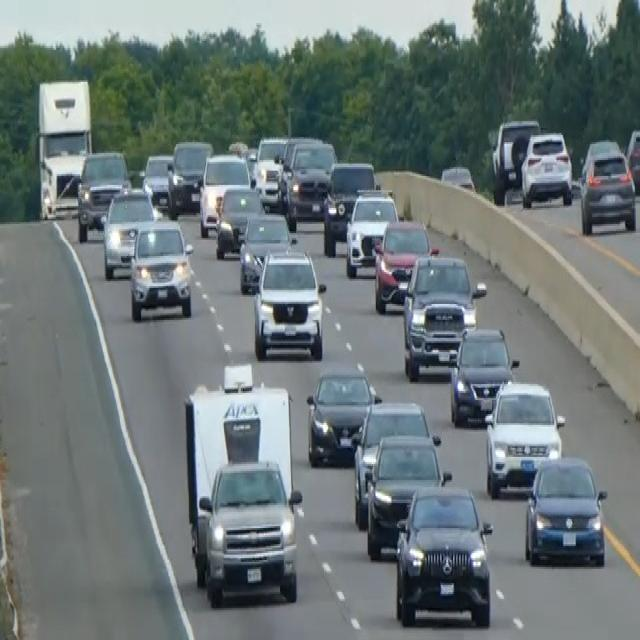car: (365, 432, 451, 560), (400, 252, 486, 380), (352, 398, 438, 526), (483, 377, 565, 498), (524, 453, 607, 567), (252, 247, 326, 361), (305, 366, 381, 466), (448, 323, 519, 425), (128, 217, 194, 320), (372, 217, 436, 313), (322, 158, 377, 256), (101, 185, 158, 279), (76, 148, 131, 240), (579, 148, 637, 235), (344, 187, 399, 277), (238, 210, 295, 293), (198, 151, 251, 237), (283, 137, 336, 219), (520, 128, 573, 208), (490, 116, 539, 199), (214, 183, 264, 260), (167, 137, 213, 217), (253, 135, 288, 208), (579, 135, 621, 181), (141, 151, 174, 208), (439, 162, 475, 192), (625, 126, 639, 194)
jeep: (392, 480, 495, 629)
lorry: (34, 74, 93, 218)
truck: (182, 364, 303, 606)
